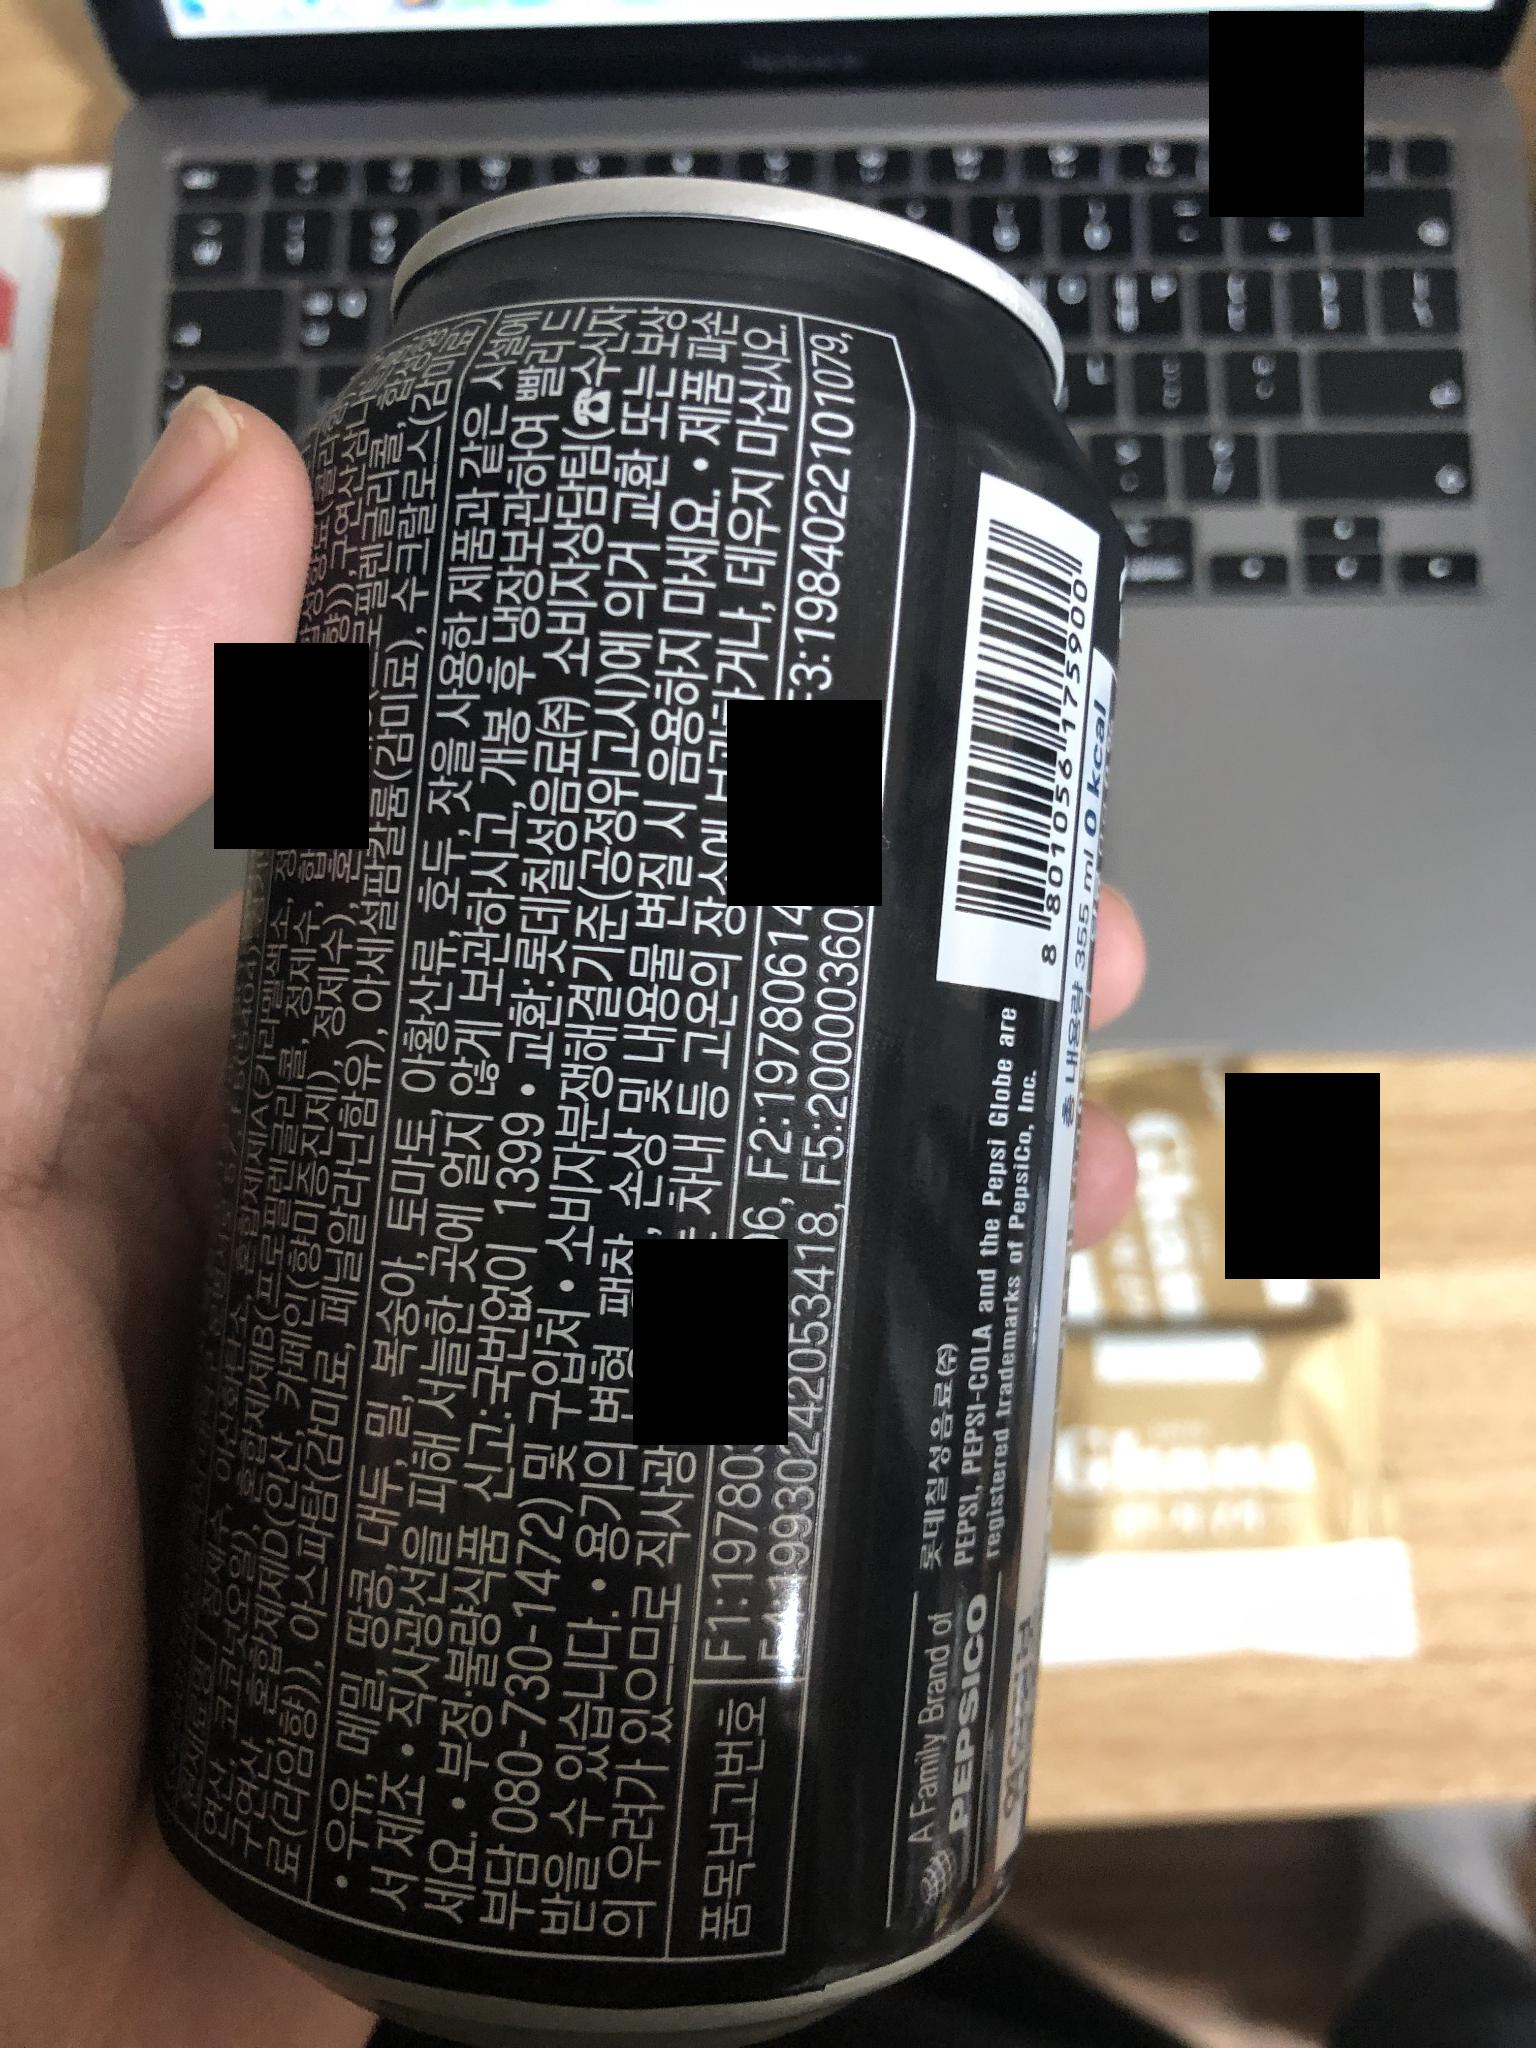pepsi_zero: (181, 147, 1105, 2046)
